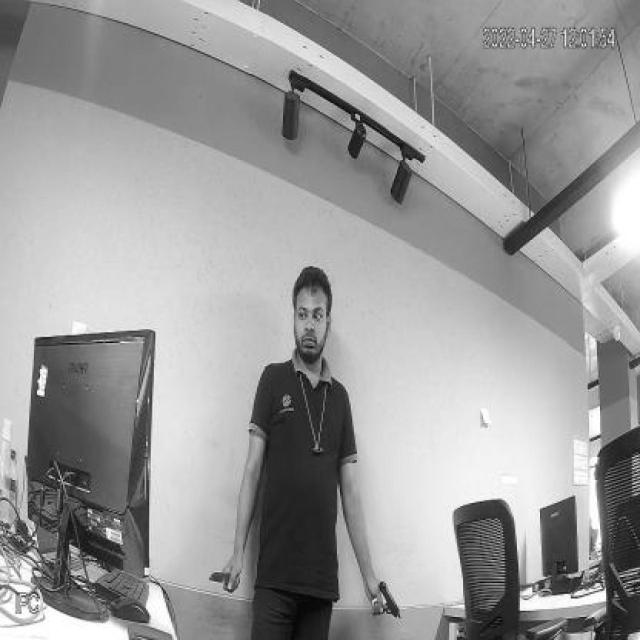weapon: (368, 579, 402, 619)
